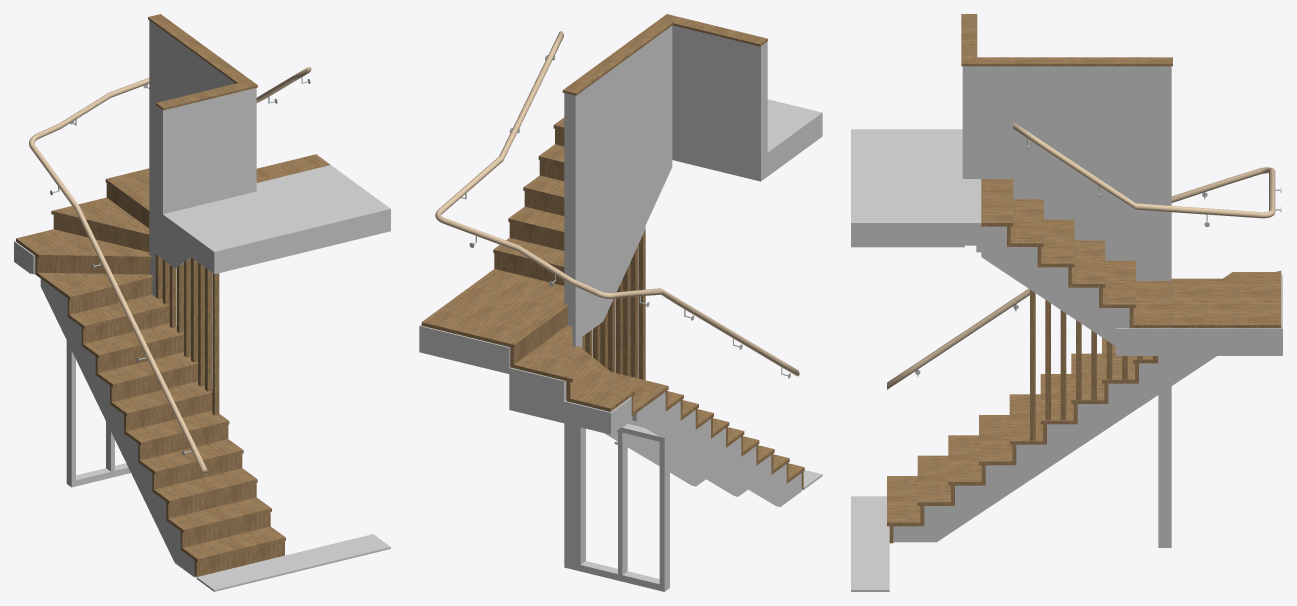
The model's file is stairs-james-design.glb.
3 renders of one model, left to right at view 1: azimuth 30°, elevation 25°; view 2: azimuth 150°, elevation 25°; view 3: azimuth 270°, elevation 25°, orthographic. The views are drawn at different scales.
Visible parts, largest first — view 1: Geom3D_Site revision | Tread#1_T01 | Tread | Hardwood | 902. (×8), Geom3D_Site revision | Riser#1_R01 | Hardwood riser | 902 x  (×9), Geom3D_Finished carpet and underlay | 15 mm, Geom3D_Upper void barrier return, Geom3D_Centre divider | 110 mm, Geom3D_Upstairs subfloor and structure, Geom3D_Lower stringer | wall side | 345 x 42 LVL, Geom3D_Round hardwood rail | 50 mm, Geom3D_Engineered board | 18 mm, Geom3D_T11 | Winder | Hardwood | 939.1 x 934.0 x 32 mm plan , Geom3D_Centre wall cap | Hardwood | 130 x 20 mm | L return, Geom3D_T10 | Winder | Hardwood | 879.5 x 624.9 x 32 mm plan  (+16 smaller); view 2: Geom3D_Centre divider | 110 mm, Geom3D_Upper void barrier return, Geom3D_T13 | Landing | Hardwood | 889.0 x 1237.0 x 32 mm pla, Geom3D_Centre newel | 110 x 110 mm modelled envelope, Geom3D_Lower stringer | wall side | 345 x 42 LVL, Geom3D_Round hardwood rail | 50 mm, Geom3D_Upstairs subfloor and structure, Geom3D_Site revision | Tread#2_T14 | Tread | Hardwood | 847. (×3), Geom3D_Centre wall cap | Hardwood | 130 x 20 mm | L return, Geom3D_T11 | Winder | Hardwood | 939.1 x 934.0 x 32 mm plan , Geom3D_Site revision | Riser#2_R14 | Hardwood riser | 847 x  (×3), Geom3D_Landing rear bearer | LVL | 240 x 42 mm | 860 mm long (+17 smaller); view 3: Geom3D_Centre divider | 110 mm, Geom3D_Finished carpet and underlay | 15 mm, Geom3D_Site revision | Tread#1_T01 | Tread | Hardwood | 902. (×8), Geom3D_Lower stringer | Newel side | LVL | 427 min x 42 mm b, Geom3D_T13 | Landing | Hardwood | 889.0 x 1237.0 x 32 mm pla, Geom3D_Site revision | Tread#2_T14 | Tread | Hardwood | 847. (×4), Geom3D_Centre newel | 110 x 110 mm modelled envelope, Geom3D_Site revision | Upper stringer 1 | proposed 345 x 42 , Geom3D_Landing joist 3 | LVL | 240 x 58 mm | 1276 mm long, Geom3D_Round hardwood rail | 50 mm, Geom3D_Engineered board | 18 mm, Geom3D_Centre wall cap | Hardwood | 130 x 20 mm | L return (+5 smaller).
Boxes of the visible parts, x1=… form: Geom3D_Site revision | Tread#1_T01 | Tread | Hardwood | 902. (×8): x1=81, y1=323, x2=285, y2=562; Geom3D_Site revision | Riser#1_R01 | Hardwood riser | 902 x  (×9): x1=81, y1=308, x2=284, y2=576; Geom3D_Finished carpet and underlay | 15 mm: x1=156, y1=165, x2=390, y2=253; Geom3D_Upper void barrier return: x1=156, y1=90, x2=245, y2=214; Geom3D_Centre divider | 110 mm: x1=155, y1=25, x2=256, y2=264; Geom3D_Upstairs subfloor and structure: x1=156, y1=210, x2=390, y2=274; Geom3D_Lower stringer | wall side | 345 x 42 LVL: x1=40, y1=279, x2=196, y2=577; Geom3D_Round hardwood rail | 50 mm: x1=29, y1=66, x2=311, y2=474; Geom3D_Engineered board | 18 mm: x1=196, y1=534, x2=390, y2=591; Geom3D_T11 | Winder | Hardwood | 939.1 x 934.0 x 32 mm plan : x1=16, y1=229, x2=151, y2=259; Geom3D_Centre wall cap | Hardwood | 130 x 20 mm | L return: x1=148, y1=14, x2=257, y2=110; Geom3D_T10 | Winder | Hardwood | 879.5 x 624.9 x 32 mm plan : x1=35, y1=271, x2=153, y2=300; Geom3D_Centre divider | 110 mm: x1=582, y1=26, x2=672, y2=332; Geom3D_Upper void barrier return: x1=672, y1=25, x2=767, y2=157; Geom3D_T13 | Landing | Hardwood | 889.0 x 1237.0 x 32 mm pla: x1=421, y1=269, x2=568, y2=348; Geom3D_Centre newel | 110 x 110 mm modelled envelope: x1=564, y1=91, x2=582, y2=570; Geom3D_Lower stringer | wall side | 345 x 42 LVL: x1=632, y1=392, x2=801, y2=506; Geom3D_Round hardwood rail | 50 mm: x1=435, y1=31, x2=799, y2=376; Geom3D_Upstairs subfloor and structure: x1=672, y1=114, x2=822, y2=181; Geom3D_Site revision | Tread#2_T14 | Tread | Hardwood | 847. (×3): x1=493, y1=175, x2=564, y2=270; Geom3D_Centre wall cap | Hardwood | 130 x 20 mm | L return: x1=562, y1=14, x2=767, y2=95; Geom3D_T11 | Winder | Hardwood | 939.1 x 934.0 x 32 mm plan : x1=566, y1=345, x2=634, y2=411; Geom3D_Site revision | Riser#2_R14 | Hardwood riser | 847 x  (×3): x1=494, y1=191, x2=564, y2=285; Geom3D_Landing rear bearer | LVL | 240 x 42 mm | 860 mm long: x1=419, y1=324, x2=510, y2=373; Geom3D_Centre divider | 110 mm: x1=962, y1=66, x2=1158, y2=280; Geom3D_Finished carpet and underlay | 15 mm: x1=851, y1=129, x2=981, y2=224; Geom3D_Site revision | Tread#1_T01 | Tread | Hardwood | 902. (×8): x1=887, y1=337, x2=1138, y2=526; Geom3D_Lower stringer | Newel side | LVL | 427 min x 42 mm b: x1=893, y1=356, x2=1216, y2=542; Geom3D_T13 | Landing | Hardwood | 889.0 x 1237.0 x 32 mm pla: x1=1129, y1=278, x2=1281, y2=328; Geom3D_Site revision | Tread#2_T14 | Tread | Hardwood | 847. (×4): x1=1007, y1=199, x2=1135, y2=307; Geom3D_Centre newel | 110 x 110 mm modelled envelope: x1=1158, y1=66, x2=1171, y2=547; Geom3D_Site revision | Upper stringer 1 | proposed 345 x 42 : x1=981, y1=226, x2=1129, y2=346; Geom3D_Landing joist 3 | LVL | 240 x 58 mm | 1276 mm long: x1=1121, y1=328, x2=1277, y2=355; Geom3D_Round hardwood rail | 50 mm: x1=887, y1=122, x2=1275, y2=389; Geom3D_Engineered board | 18 mm: x1=851, y1=496, x2=889, y2=591; Geom3D_Centre wall cap | Hardwood | 130 x 20 mm | L return: x1=961, y1=14, x2=1172, y2=66.
Size of the model in its own units: 1.83 by 4.36 by 3.52.
3 materials, 1 textured.
